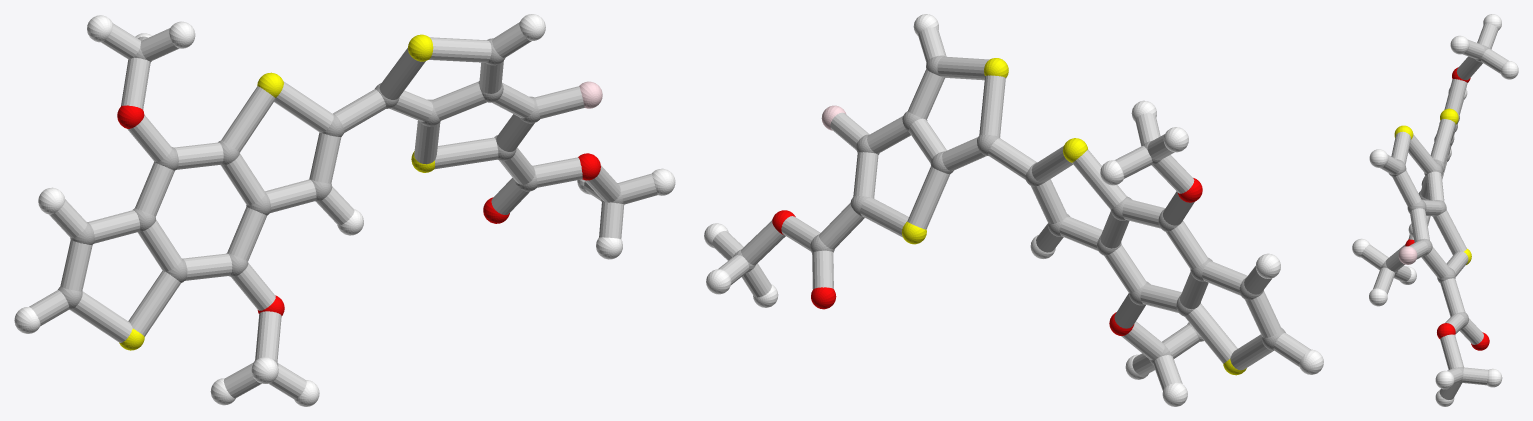
The model's file is Dimethoxy_Benzodithiophene_Phi_20_Theta_220_Methylcarbonyl_3_Fluoro_Thienothiophene.glb.
3 renders of one model, left to right at view 1: azimuth 30°, elevation 25°; view 2: azimuth 150°, elevation 25°; view 3: azimuth 270°, elevation 25°, orthographic. The views are drawn at different scales.
Parts seen in each view (by area): view 1: grp15205, grp8689, grp1, grp7241, grp13395; view 2: grp15205, grp8689, grp1, grp7241, grp13395; view 3: grp15205, grp8689, grp1, grp13395, grp7241, grp14843.
Boxes of the visible parts, x1,y1,x2,y2 form: grp15205: (29, 22, 657, 399); grp8689: (14, 14, 675, 406); grp1: (58, 38, 623, 366); grp7241: (119, 34, 434, 350); grp13395: (117, 105, 600, 315); grp15205: (712, 27, 1310, 390); grp8689: (704, 14, 1323, 406); grp1: (733, 55, 1285, 364); grp7241: (901, 58, 1246, 375); grp13395: (772, 178, 1202, 335); grp15205: (1361, 23, 1508, 399); grp8689: (1352, 14, 1518, 406); grp1: (1381, 45, 1489, 383); grp13395: (1405, 67, 1489, 350); grp7241: (1394, 108, 1471, 264); grp14843: (1398, 246, 1417, 264).
Bounding box in the file's own units: 16.77 × 8.73 × 5.29.
